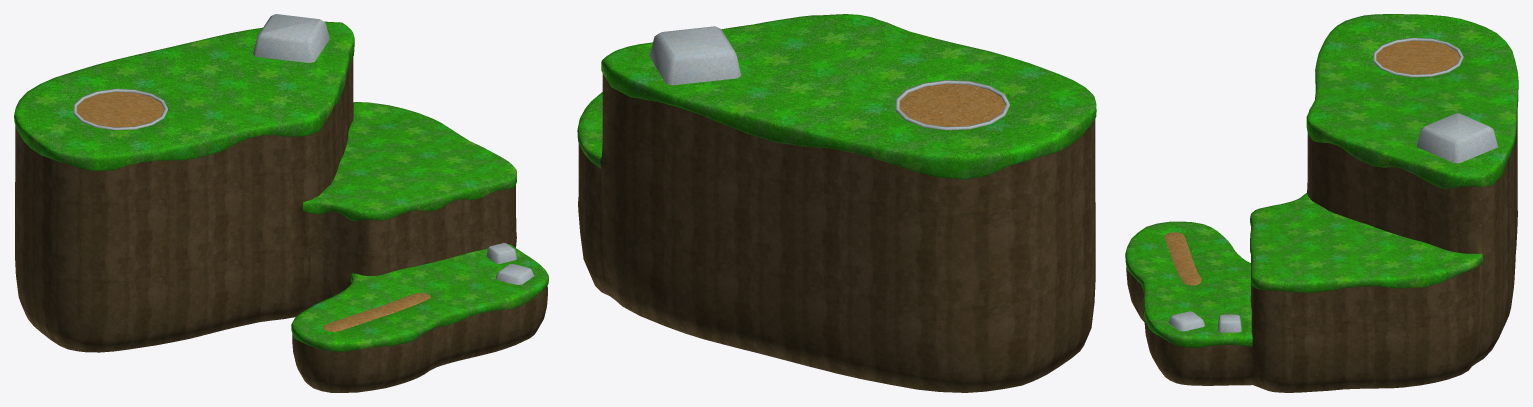
Rendered from HikeGardenAttackSpikePlanet.fbx.
3 views of the same model, side by side, from view 1: azimuth 30°, elevation 25°; view 2: azimuth 150°, elevation 25°; view 3: azimuth 270°, elevation 25° (orthographic). The views are drawn at different scales.
Parts seen in each view (by area): view 1: Plane.011, Plane.003, Plane.002, Plane.001; view 2: Plane.011, Plane.003, Plane.002, Plane.001; view 3: Plane.003, Plane.011, Plane.002, Plane.001.
Part boxes in pixels (x1,y1,x2,y2): Plane.011: (15,57,547,392); Plane.003: (14,21,548,351); Plane.002: (73,14,534,284); Plane.001: (76,91,430,331); Plane.011: (578,73,1095,392); Plane.003: (577,14,1096,179); Plane.002: (649,26,1009,130); Plane.001: (899,83,1005,126); Plane.003: (1125,14,1518,347); Plane.011: (1126,112,1517,392); Plane.002: (1168,37,1497,332); Plane.001: (1164,40,1459,285).
Size of the model in its own units: 570074 by 289459 by 489318.
Materials: 5 (5 with a texture image).
